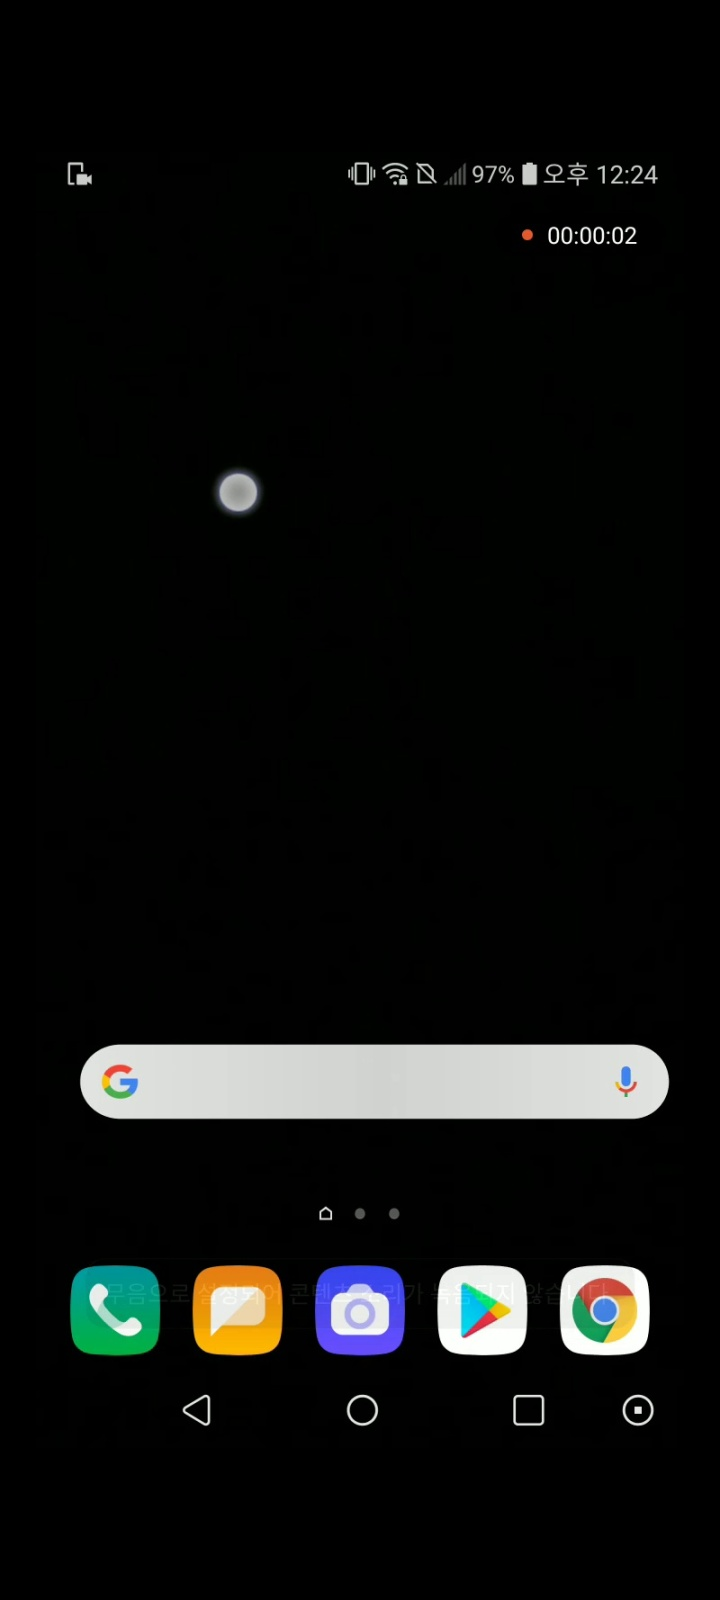Cursor: (217, 471, 262, 516)
